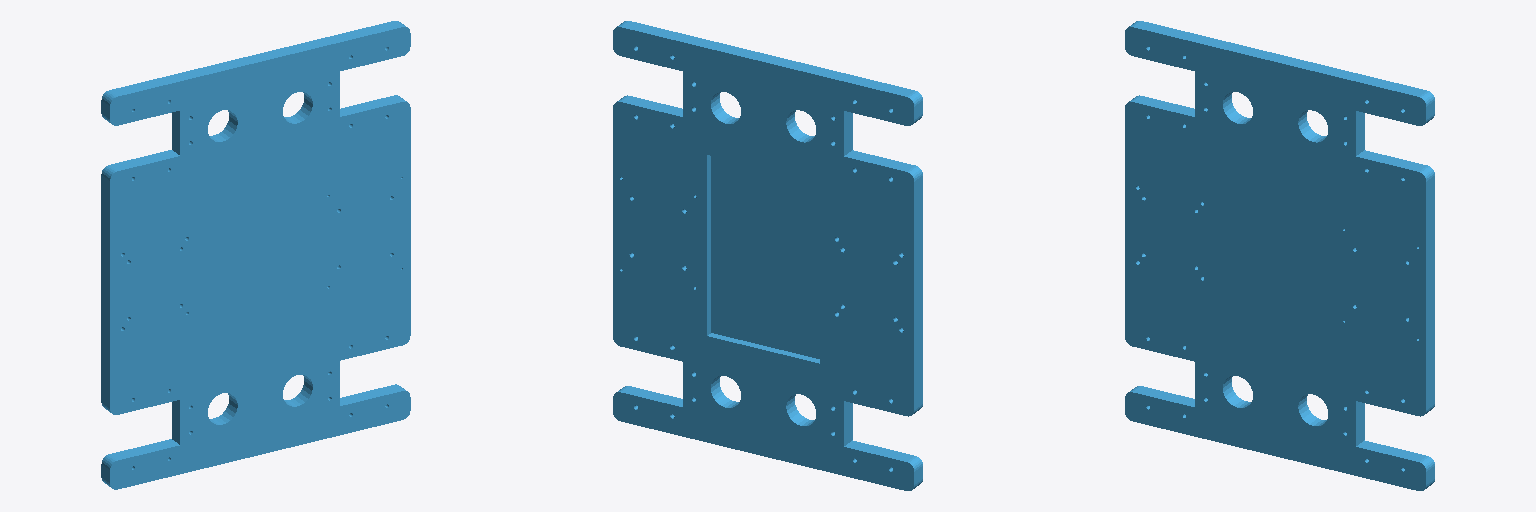
URDF robot description (kani):
<?xml version="1.0" ?>
<!-- =================================================================================== -->
<!-- |    This document was autogenerated by xacro from kani.urdf.xacro                | -->
<!-- |    EDITING THIS FILE BY HAND IS NOT RECOMMENDED                                 | -->
<!-- =================================================================================== -->
<robot name="kani" xmlns:xacro="http://www.ros.org/wiki/xacro">
  <link name="base_footprint">
    <visual>
      <origin rpy="0 0 0" xyz="0 0 0"/>
      <geometry>
        <box size="0.001 0.001 0.001"/>
      </geometry>
    </visual>
  </link>
  <joint name="base_footprint_joint" type="fixed">
    <origin rpy="0 0 0" xyz="0 0 0"/>
    <child link="base_link"/>
    <parent link="base_footprint"/>
  </joint>
  <link name="base_link">
    <inertial>
      <origin rpy="0 0 0" xyz="0.0 0.0 0.0"/>
      <mass value="0.05"/>
      <inertia ixx="0.2" ixy="0" ixz="0" iyy="0.2" iyz="0" izz="0.2"/>
    </inertial>
    <visual>
      <origin rpy="0 0 0" xyz="0 0 0"/>
      <geometry>
        <mesh filename="package://kani_description/STL/base.stl"/>
      </geometry>
      <!--<material>
	</material>-->
    </visual>
    <collision>
      <origin rpy="0 0 0" xyz="0 0 0"/>
      <geometry>
        <mesh filename="package://kani_description/STL/base.stl"/>
      </geometry>
      <material>
	  </material>
    </collision>
  </link>
</robot>

--- Facts derived from the render (not from the file) ---
The picture shows the robot from 3 angles, left to right: view 1: azimuth 30°, elevation 25°; view 2: azimuth 150°, elevation 25°; view 3: azimuth 330°, elevation 25°; orthographic projection.
Robot: kani — 2 links, 1 joints (1 fixed); root link base_footprint; default pose: every joint at zero.
Links seen in each view (by area): view 1: base_link; view 2: base_link; view 3: base_link.
Boxes of the visible links, x1=… form: base_link: x1=101, y1=21, x2=410, y2=489; base_link: x1=613, y1=21, x2=922, y2=490; base_link: x1=1125, y1=21, x2=1434, y2=490.
Size in the robot's own frame: 200 by 10 by 250 metres.
1 mesh visuals loaded from 1 distinct referenced files (1 binary STL).
